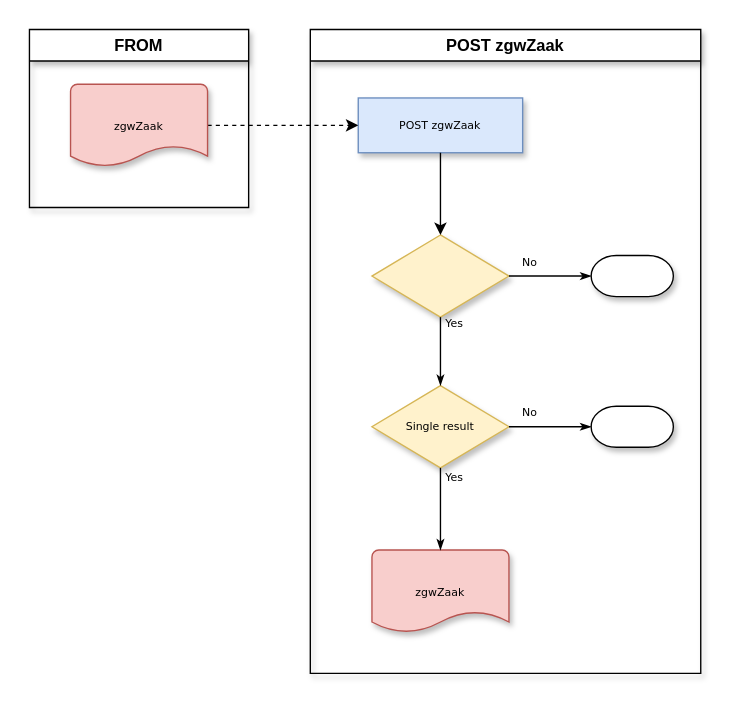
The diagram is 733 pixels wide and 707 high, and some of its shapes have lost their labels. The shapes that lost their labels are listed below. From the top down, each one's centre as x and y in pixels, then its label:
point (441, 277): result
point (633, 277): HTTP 500
point (633, 428): HTTP 404
